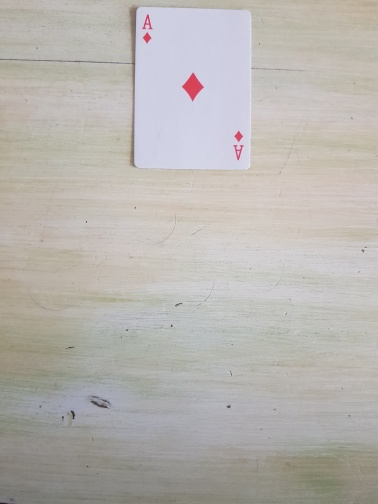ace: (131, 6, 253, 171)
